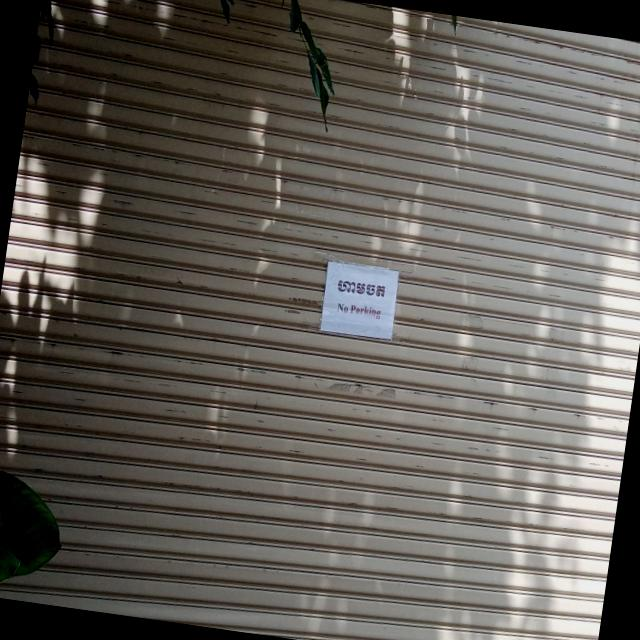Yolov11kh: (329, 272, 395, 309)
